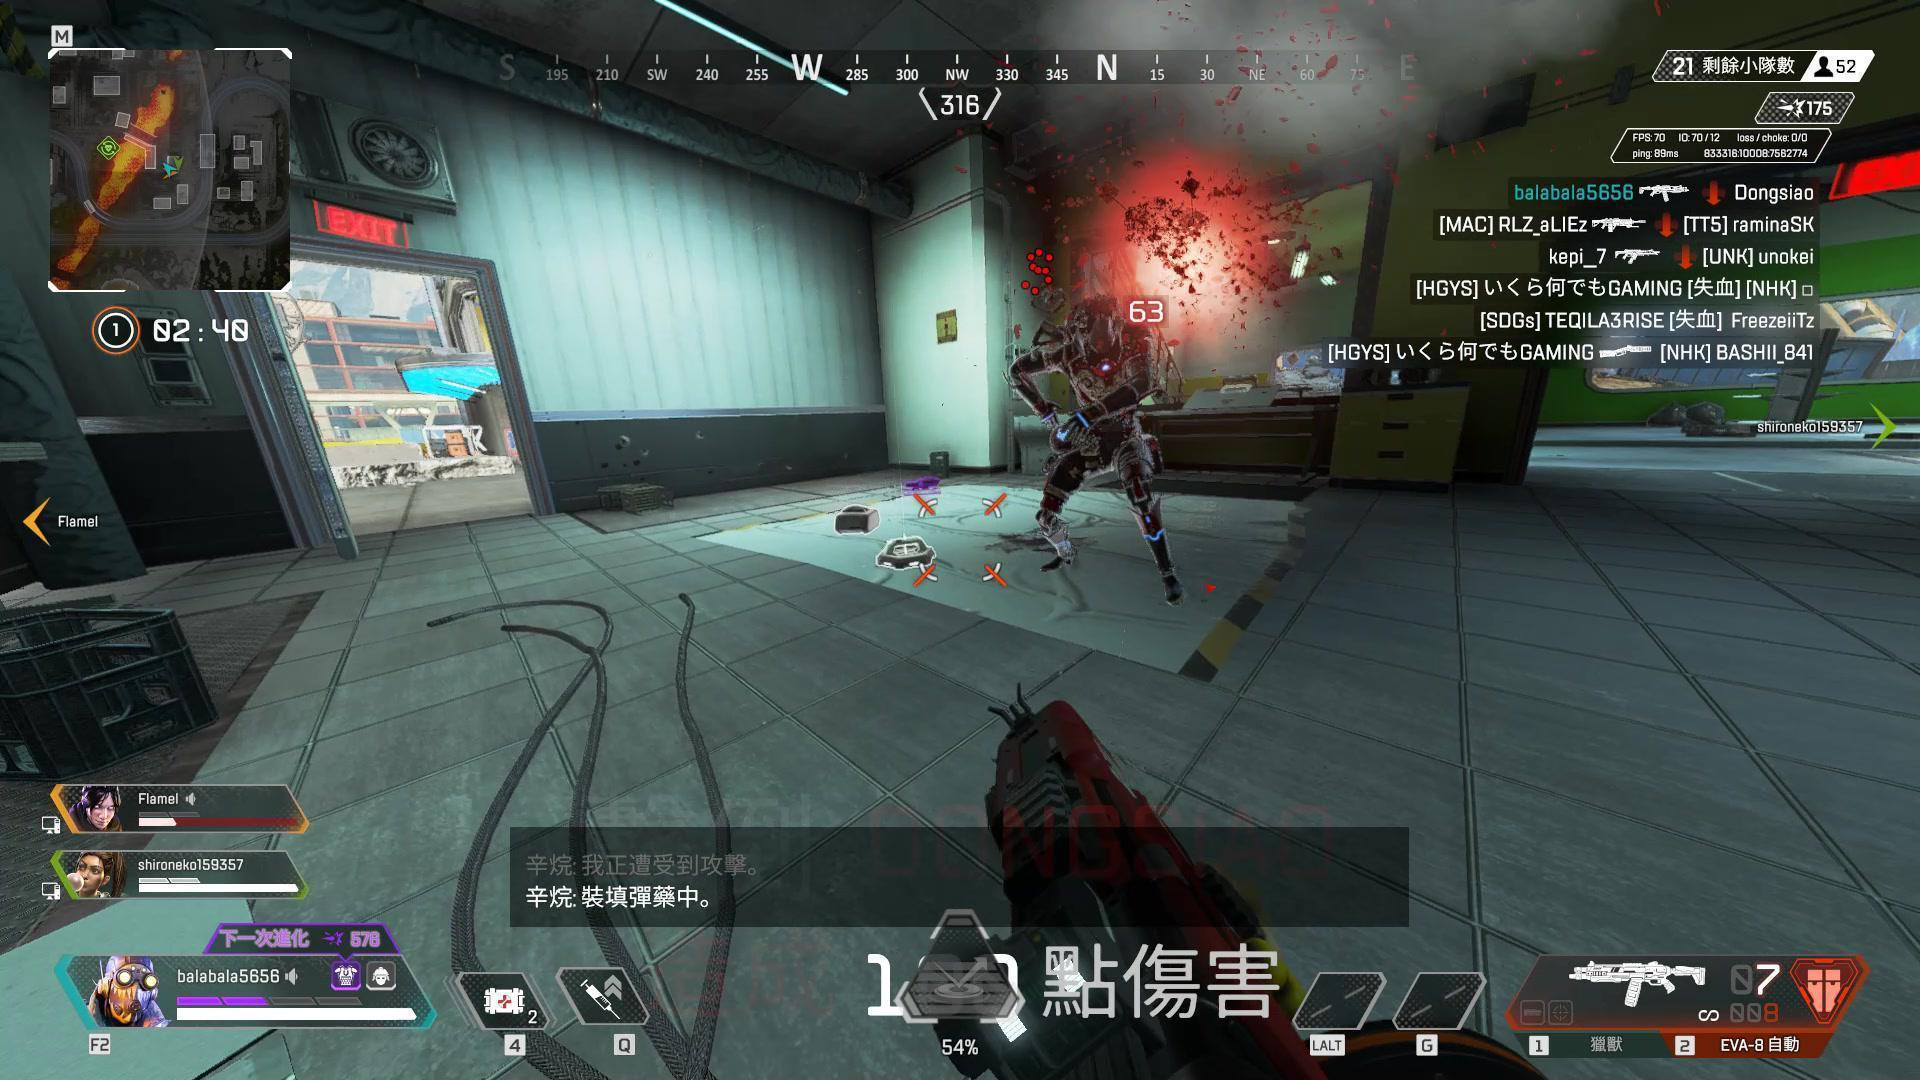avatar: (1005, 288, 1186, 612)
